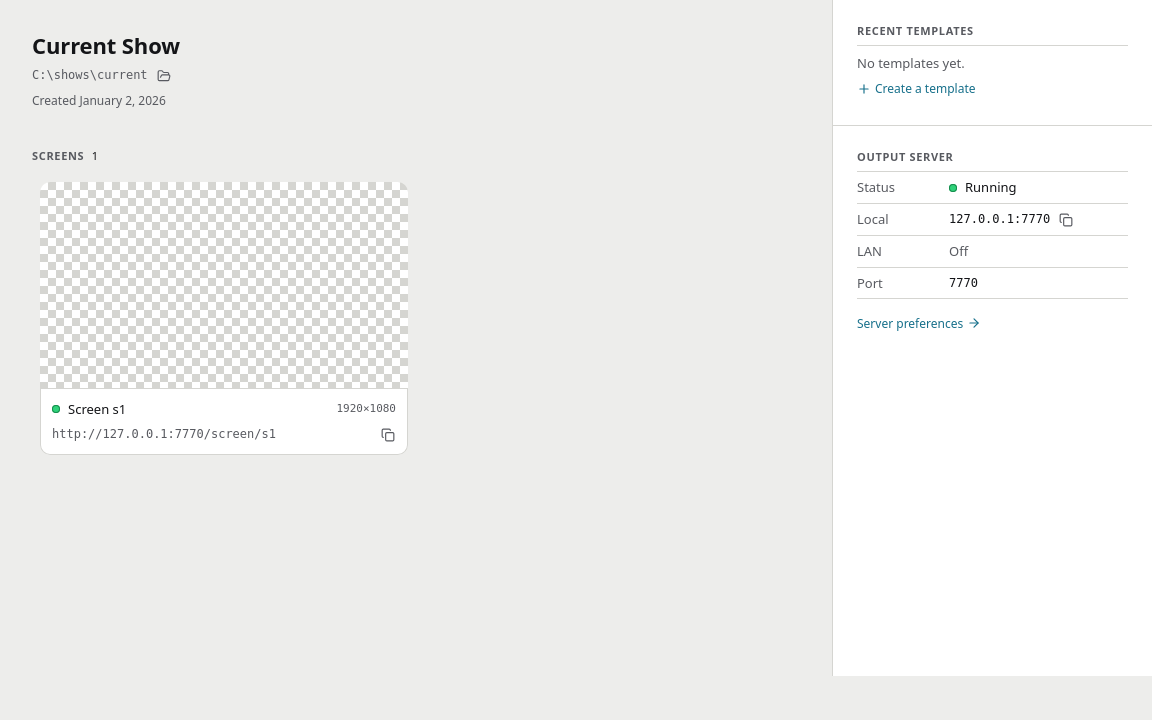
Test: Dashboard with templates › Create a template in the panel opens the gallery
Click the button "Create a template" at (916, 89), box [857,77,976,101]
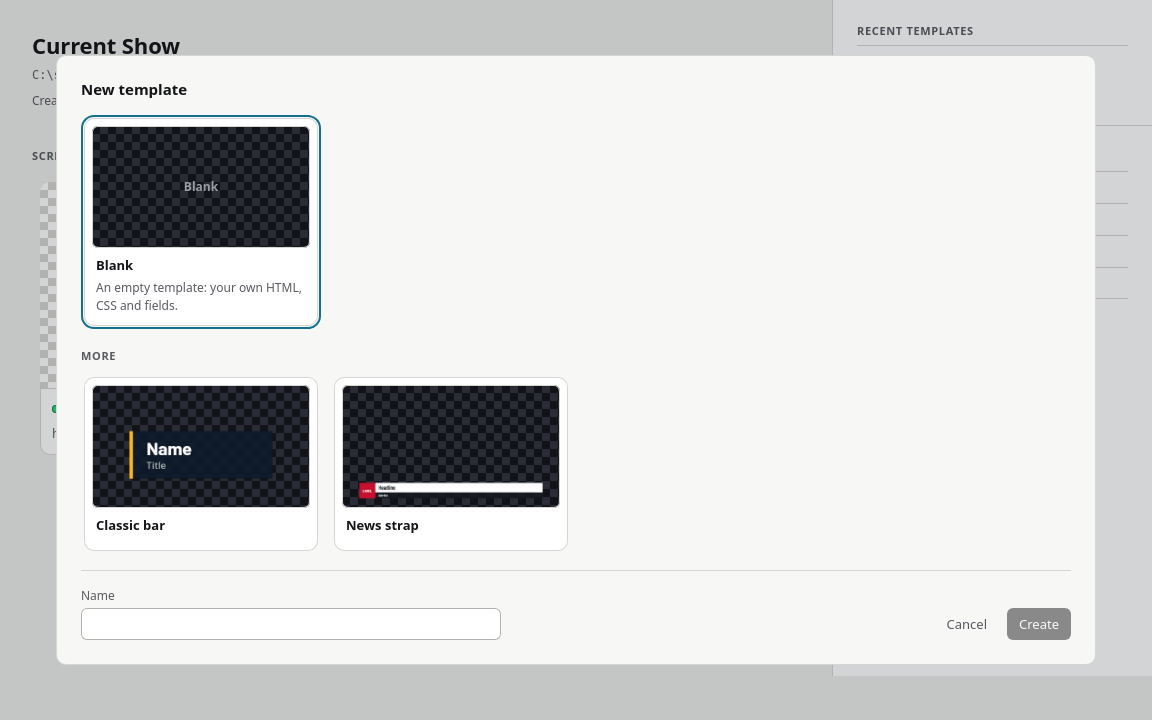
Check: the heading "New template" is shown, box [81,79,187,99]
